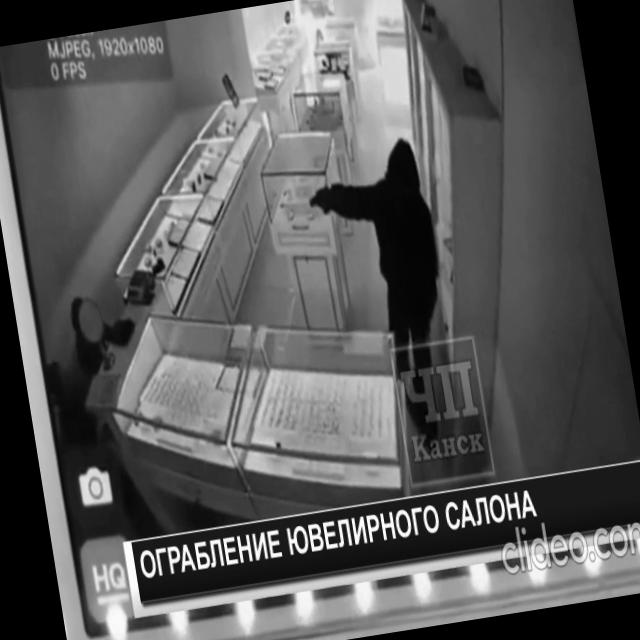gun: (306, 182, 332, 214)
person with a gun: (302, 132, 470, 454)
